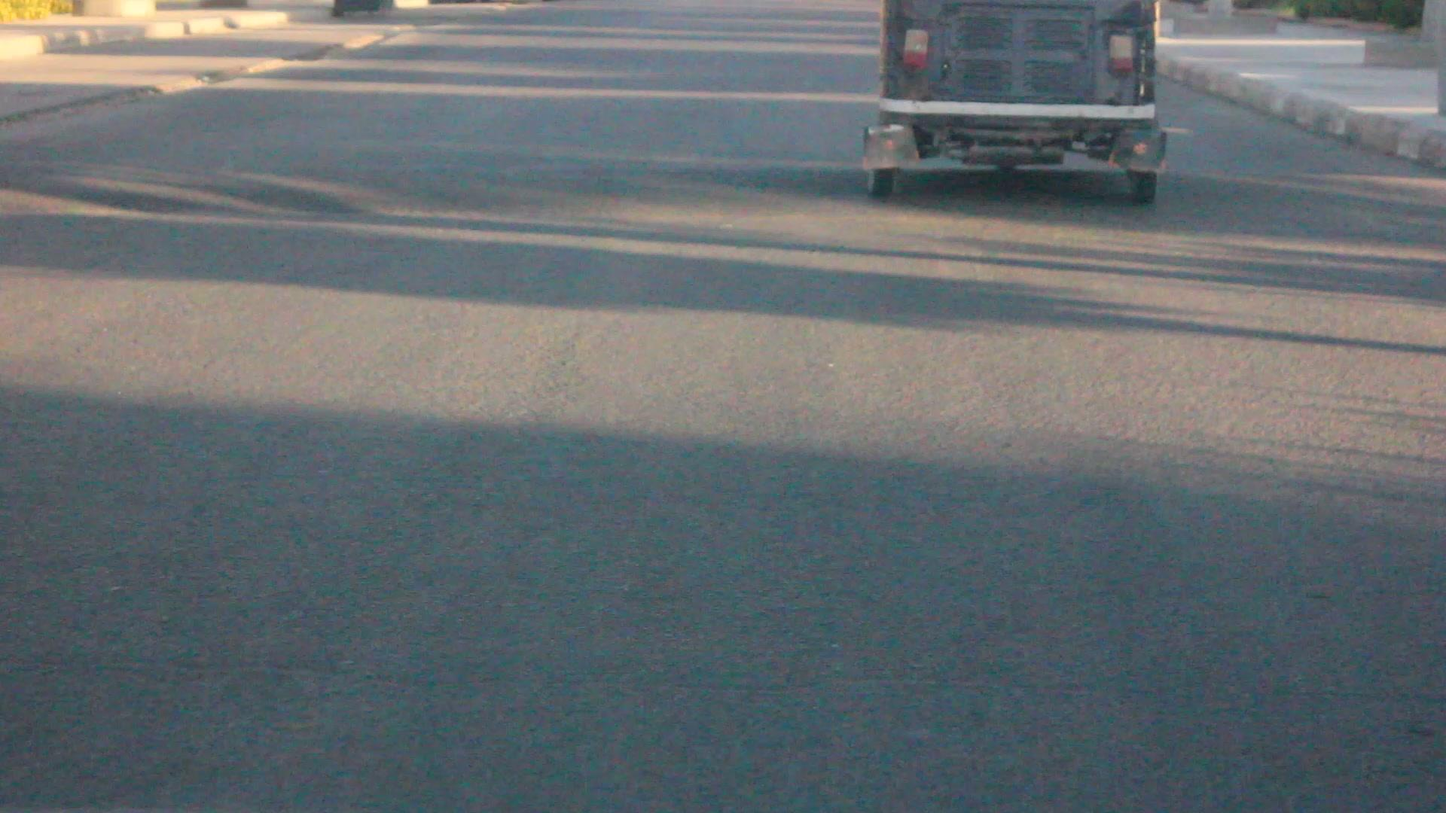Bump: (0, 119, 1446, 260)
